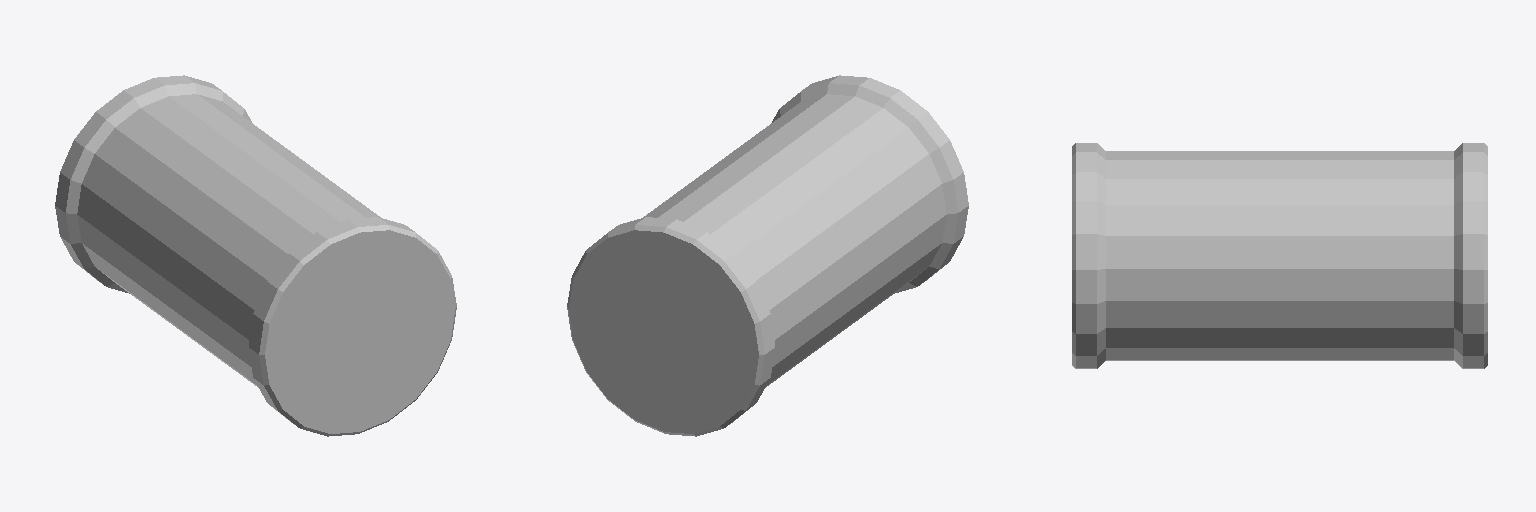
File: PipeL.obj
3 renders of one model, left to right at view 1: azimuth 30°, elevation 25°; view 2: azimuth 150°, elevation 25°; view 3: azimuth 270°, elevation 25°, orthographic.
Visible parts, largest first — view 1: PipeL; view 2: PipeL; view 3: PipeL.
Part boxes in pixels (bbox=[...]): PipeL: bbox=[55, 75, 456, 436]; PipeL: bbox=[567, 75, 968, 436]; PipeL: bbox=[1072, 143, 1487, 368].
Size of the model in its own units: 0.0541 by 0.054 by 0.0985.